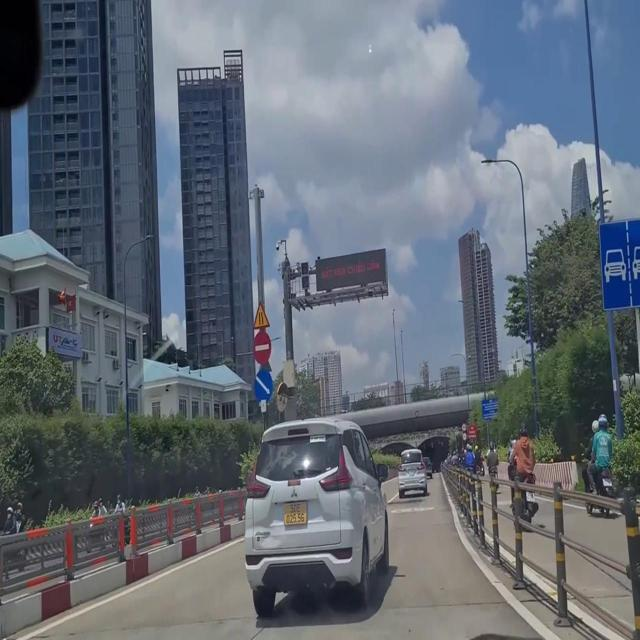Cấm đi ngược chiều: (251, 332, 274, 363)
Hướng phải đi vòng sang phải: (250, 362, 272, 402)
Khác: (481, 395, 503, 421)
Làn đường cho từng xe: (596, 207, 637, 311)
Đường hẹp: (251, 300, 270, 331)
